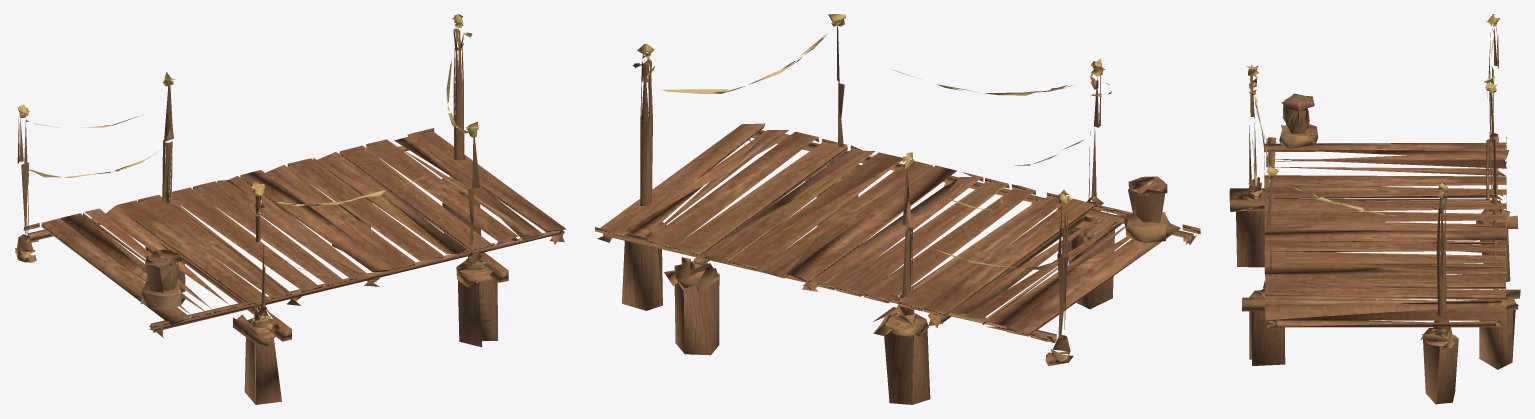
Rendered from jetty.lod1.glb.
The picture shows the model from 3 angles, left to right: view 1: azimuth 30°, elevation 25°; view 2: azimuth 150°, elevation 25°; view 3: azimuth 270°, elevation 25°; orthographic projection. The views are drawn at different scales.
Visible parts, largest first — view 1: jetty_lod1; view 2: jetty_lod1; view 3: jetty_lod1.
Part boxes in pixels (box(x1,y1,x2,y2)): jetty_lod1: box(14, 14, 565, 404); jetty_lod1: box(595, 14, 1200, 404); jetty_lod1: box(1229, 14, 1520, 404).
Bounding box in the file's own units: 8.06 × 4.2 × 5.19.
1 material, 1 textured.
